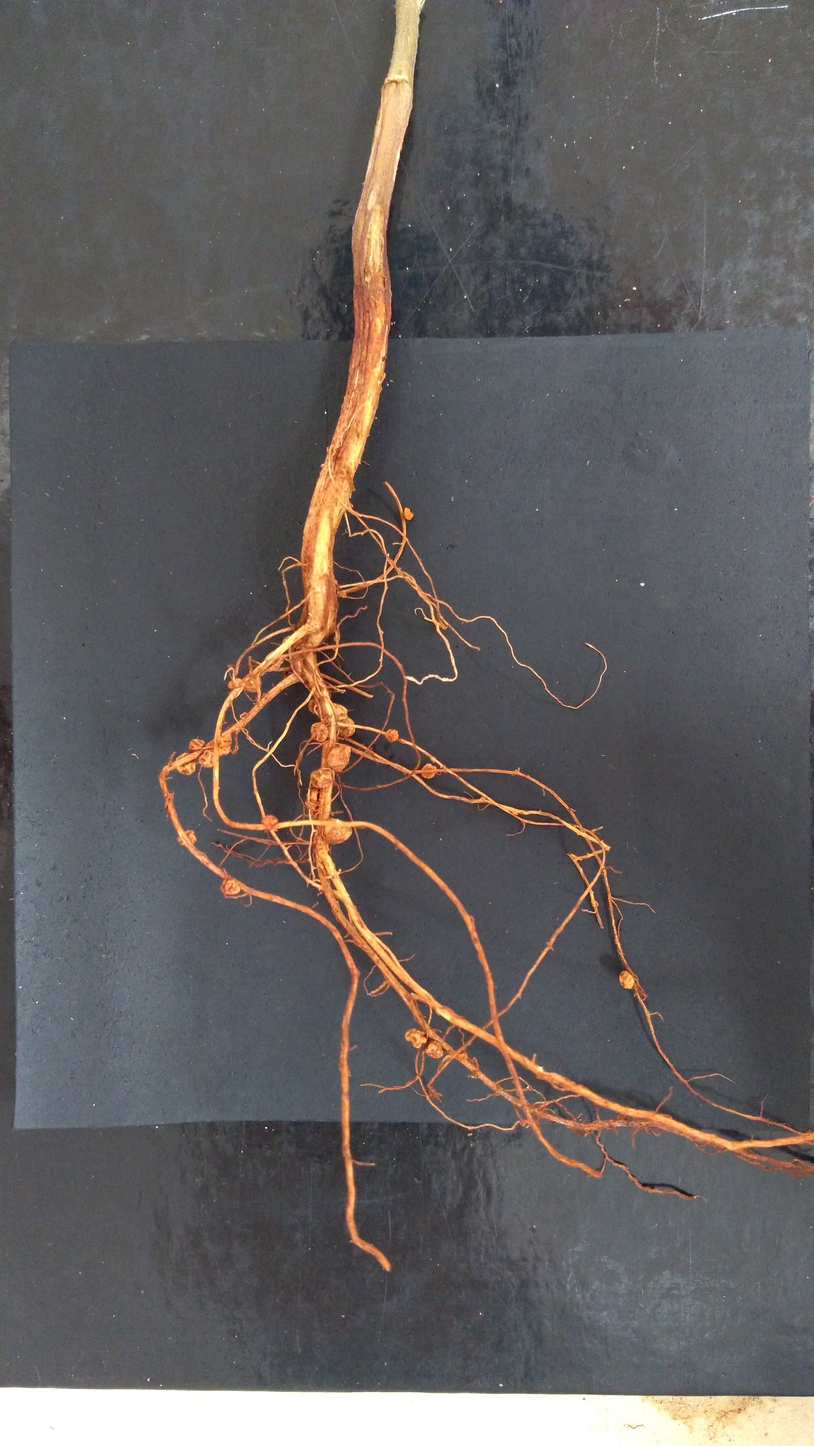nodule: (322, 817, 352, 845), (326, 743, 353, 774), (307, 766, 337, 789), (173, 751, 197, 776), (262, 649, 285, 672), (404, 1027, 428, 1049), (310, 720, 329, 745), (303, 787, 321, 811), (336, 717, 356, 738), (176, 829, 198, 848), (216, 733, 233, 757), (424, 1040, 444, 1060), (198, 749, 216, 771), (619, 969, 636, 990), (243, 675, 262, 693), (419, 762, 438, 780), (330, 701, 348, 720), (223, 879, 242, 896), (186, 737, 206, 750), (260, 814, 279, 826), (384, 728, 399, 743), (307, 698, 319, 716), (228, 676, 243, 690), (402, 506, 414, 521)
